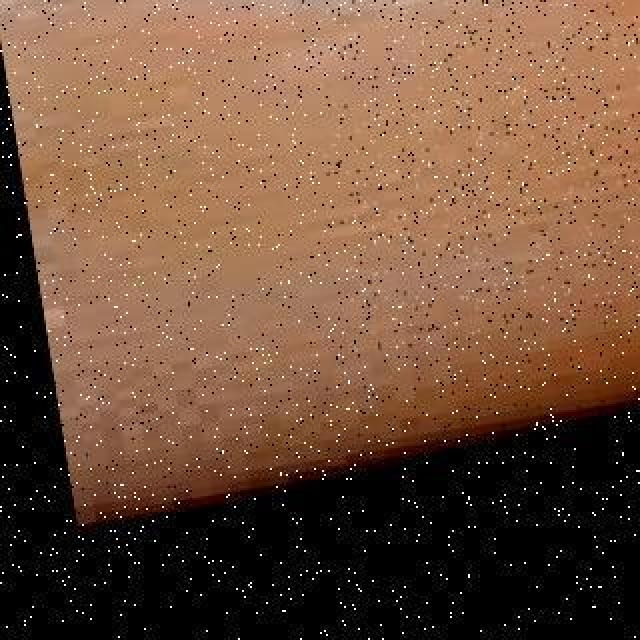cavities: (376, 0, 640, 350)
